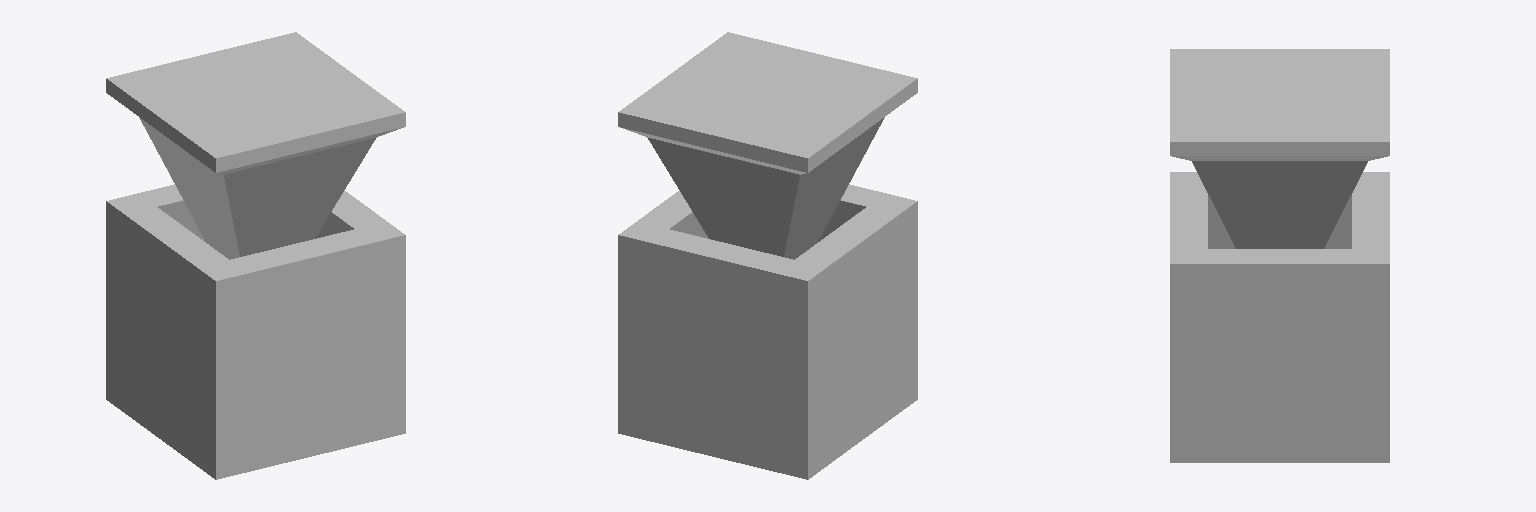
Rendered from AnimatedBox_000001.obj.
3 renders of one model, left to right at view 1: azimuth 30°, elevation 25°; view 2: azimuth 150°, elevation 25°; view 3: azimuth 270°, elevation 25°, orthographic.
Visible parts, largest first — view 1: Cube, Cube.001; view 2: Cube, Cube.001; view 3: Cube, Cube.001.
Part boxes in pixels (x1,y1,x2,y2): Cube: (106,184,405,479); Cube.001: (106,32,405,259); Cube: (618,184,917,479); Cube.001: (618,32,917,259); Cube: (1170,172,1389,462); Cube.001: (1170,49,1389,248).
Bounding box in the file's own units: 2 × 3.24 × 2.